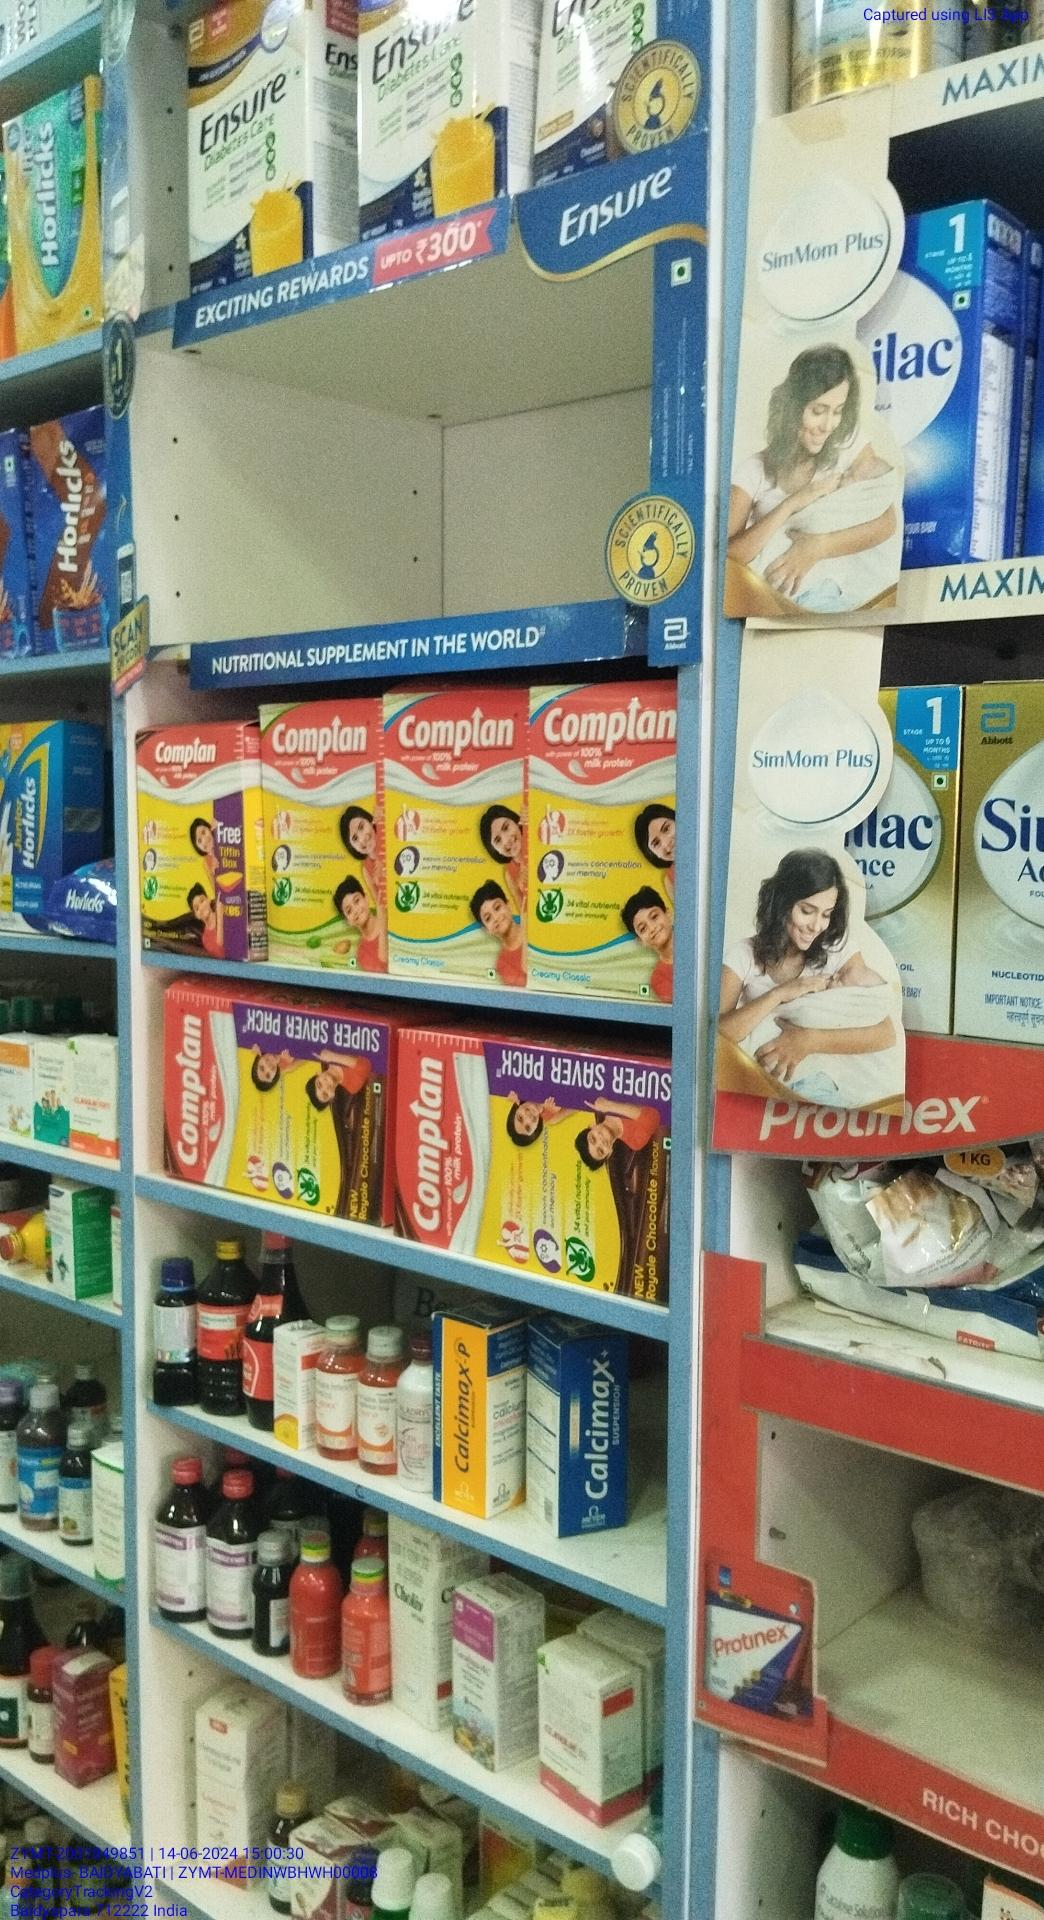COMPLAN_CHOCOLATE_500_GMS_PACK: (140, 733, 240, 961)
COMPLAN_CREAMY_CLASSIC_500_G_PACK: (528, 681, 671, 996), (387, 697, 521, 986)
COMPLAN_PISTA_BADAM_500_GMS_PACK: (261, 700, 377, 970)
HORLICK_CHOCOLATE_500_G_PACK: (30, 423, 116, 653)
